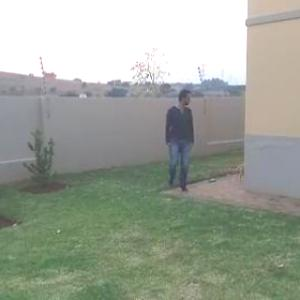follow: (161, 86, 196, 193)
